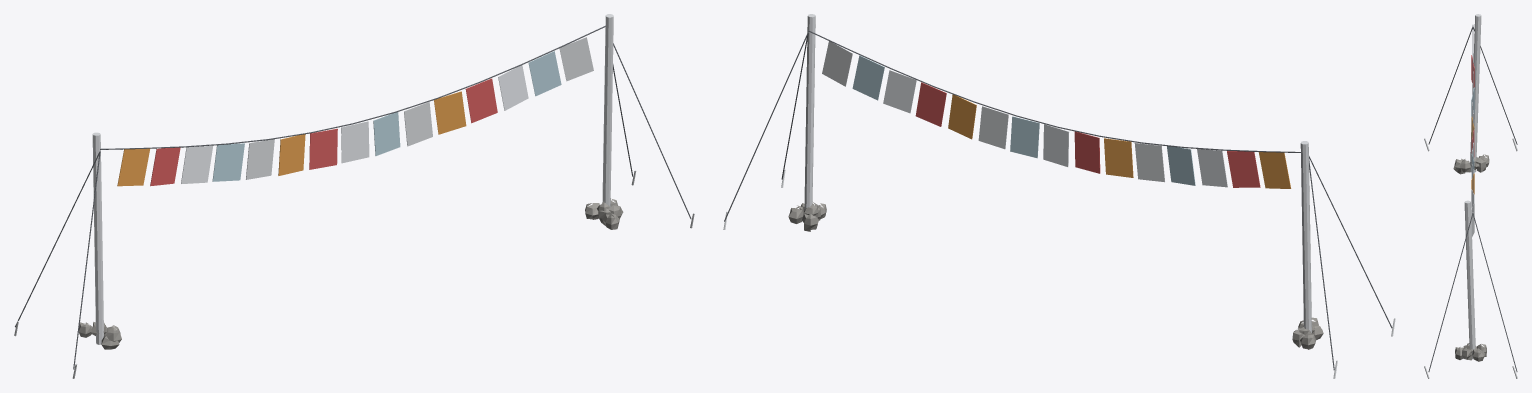
Rendered from mountaineering-and-summit-expedition-prayer-flag-line-0936d7ac__18800.glb.
3 renders of one model, left to right at view 1: azimuth 30°, elevation 25°; view 2: azimuth 150°, elevation 25°; view 3: azimuth 270°, elevation 25°, orthographic. The views are drawn at different scales.
Visible parts, largest first — view 1: prayer-flag-line; view 2: prayer-flag-line; view 3: prayer-flag-line.
Boxes of the visible parts, box(x1,y1,x2,y2) form: prayer-flag-line: box(14, 14, 694, 378); prayer-flag-line: box(723, 14, 1395, 378); prayer-flag-line: box(1424, 14, 1517, 378).
Bounding box in the file's own units: 6.12 × 1.99 × 1.06.
